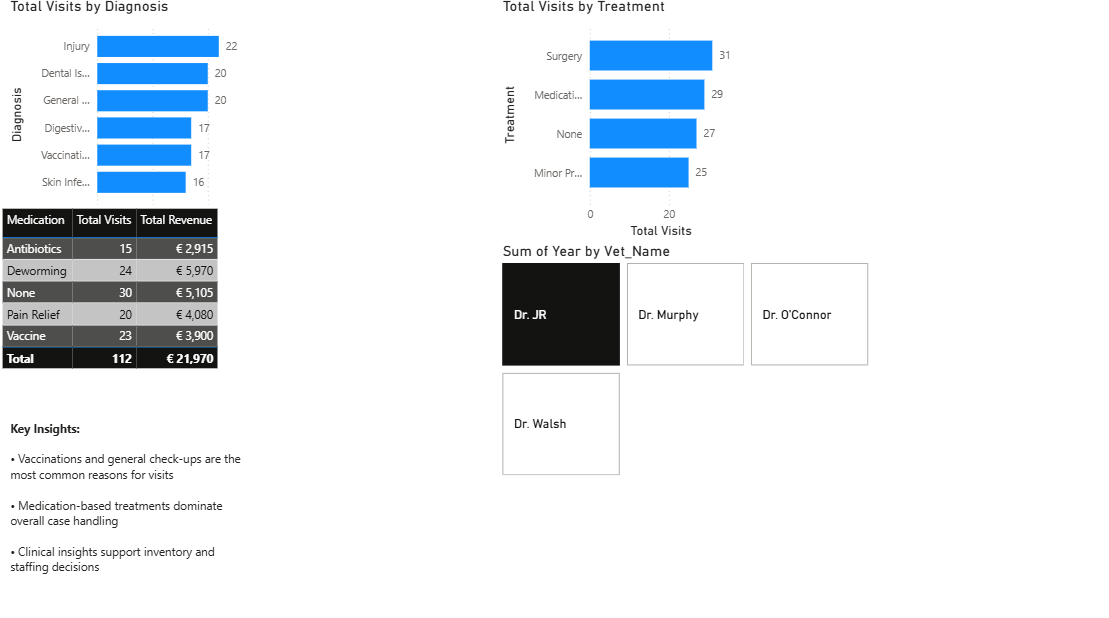

The page's visual inventory and layout, read from the dashboard file:
{"tool":"powerbi","page":{"name":"Medical Insights","canvas":[1280,720],"ordinal":3},"visuals":[{"type":"clusteredBarChart","fields":{"Category":["Vet_clinic_Data.Diagnosis"],"Y":["Vet_clinic_Data.Total Visits"]},"box":[10,0,280,280],"z":0},{"type":"clusteredBarChart","fields":{"Category":["Vet_clinic_Data.Treatment"],"Y":["Vet_clinic_Data.Total Visits"]},"box":[572.2,0,280,280],"z":1000},{"type":"tableEx","fields":{"Values":["Vet_clinic_Data.Medication","Vet_clinic_Data.Total Visits","Vet_clinic_Data.Total Revenue"]},"box":[0,236.7,280,280],"z":2000},{"type":"advancedSlicerVisual","fields":{"Values":["Vet_clinic_Data.Vet_Name"]},"box":[572.9,280,428.6,271.4],"z":3000},{"type":"textbox","box":[10,478.3,280,241.7],"z":4000}]}

Visuals, with their boxes in screenshot pixels (x1, y1, x2, y2), scaled from the page's 1280x720 canvas onto the 1109x618 screenshot:
clusteredBarChart - Vet_clinic_Data.Diagnosis x Vet_clinic_Data.Total Visits: [x1=9, y1=0, x2=251, y2=240]
clusteredBarChart - Vet_clinic_Data.Treatment x Vet_clinic_Data.Total Visits: [x1=496, y1=0, x2=738, y2=240]
tableEx - Vet_clinic_Data.Medication x Vet_clinic_Data.Total Visits: [x1=0, y1=203, x2=243, y2=444]
advancedSlicerVisual - Vet_clinic_Data.Vet_Name: [x1=496, y1=240, x2=868, y2=473]
textbox: [x1=9, y1=411, x2=251, y2=617]
